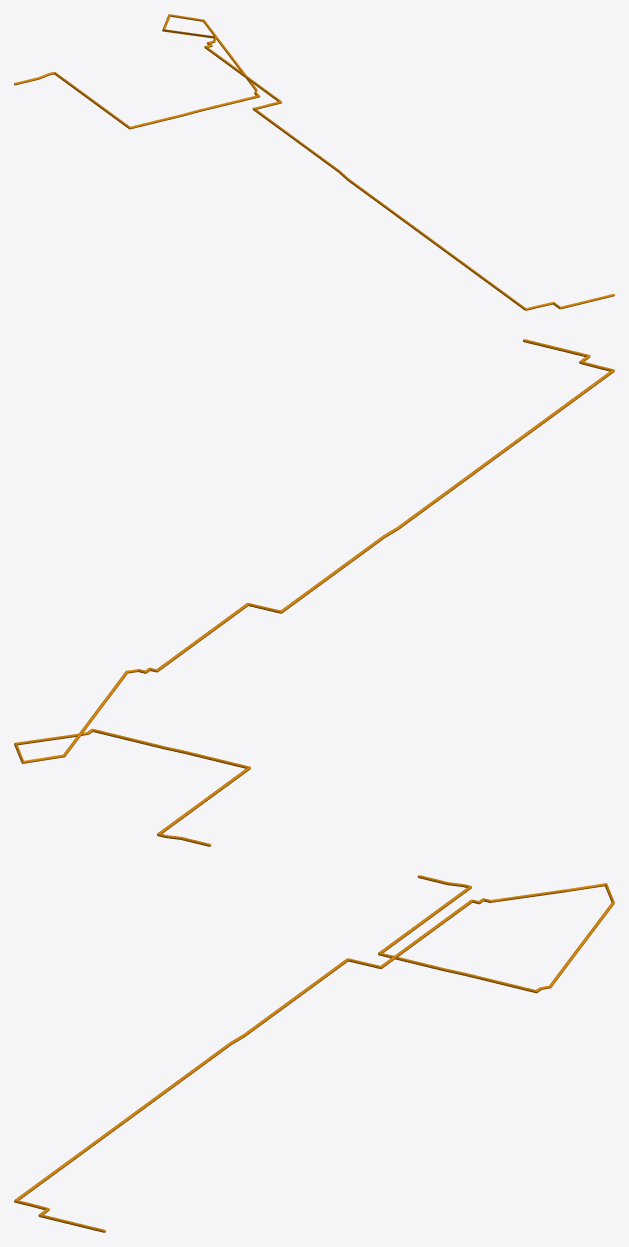
The picture shows the model from 3 angles, top to bottom: view 1: azimuth 30°, elevation 25°; view 2: azimuth 150°, elevation 25°; view 3: azimuth 330°, elevation 25°; orthographic projection. The views are drawn at different scales.
Bounding box in the file's own units: 1492 × 520 × 6313.
